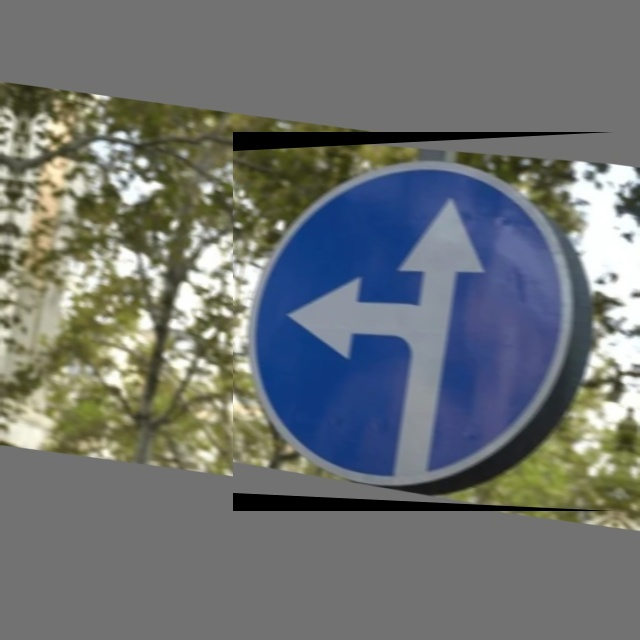Compulsory_Ahead_or_Turn_Left: (233, 132, 614, 511)
